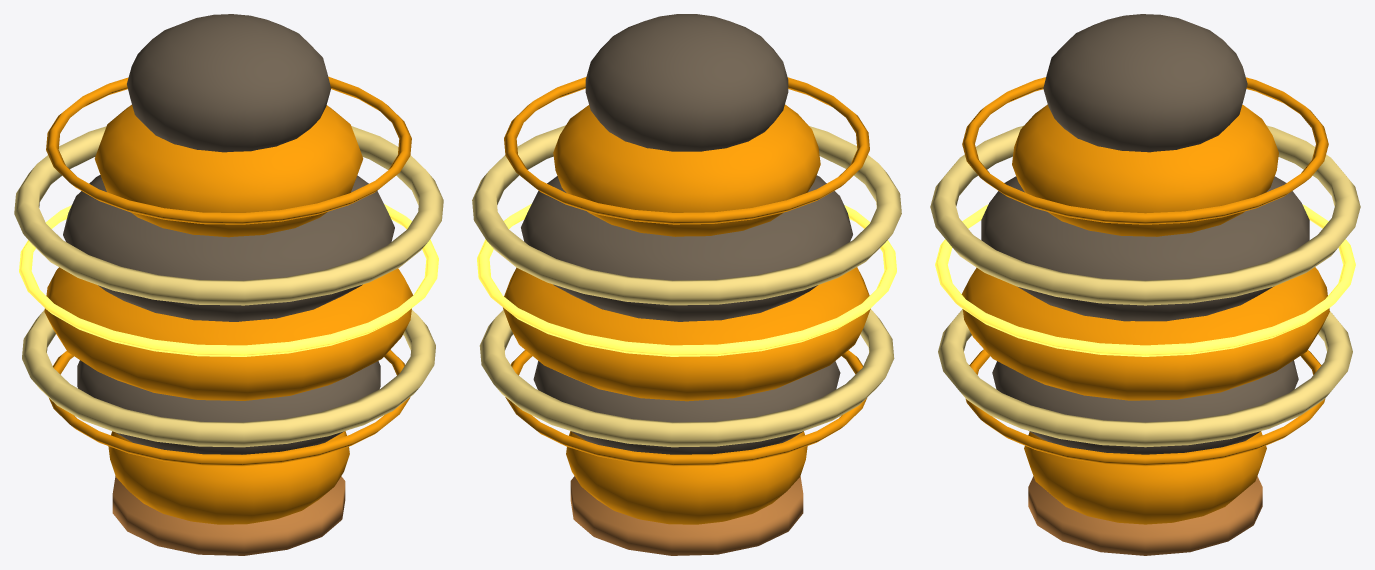
Rendered from egg_volcano_07.glb.
3 views of the same model, side by side, from view 1: azimuth 30°, elevation 25°; view 2: azimuth 150°, elevation 25°; view 3: azimuth 270°, elevation 25° (orthographic).
Parts seen in each view (by area): view 1: ball; view 2: ball; view 3: ball.
Part boxes in pixels (<box>): ball: <box>14,14,443,555</box>; ball: <box>472,14,901,555</box>; ball: <box>930,14,1360,555</box>.
Bounding box in the file's own units: 0.8078 × 0.99 × 0.8078.
